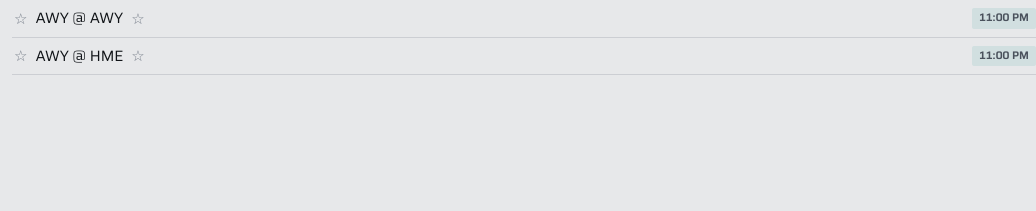
Test: MyTeams › joins both abbreviations when the starred teams play each other
Click the 2nd button "☆". click: [138, 18]
box: [129,9,147,28]
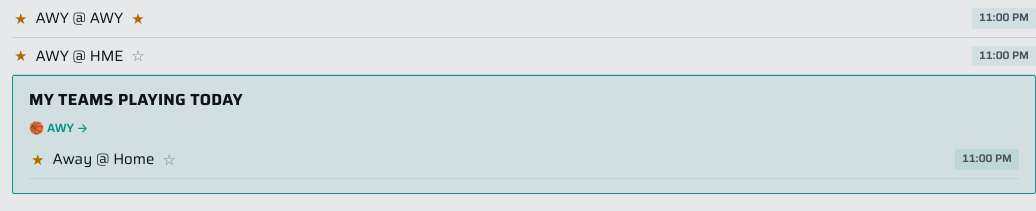
Click the button "☆" next to "HME". click: [138, 56]
box: [129,46,147,65]
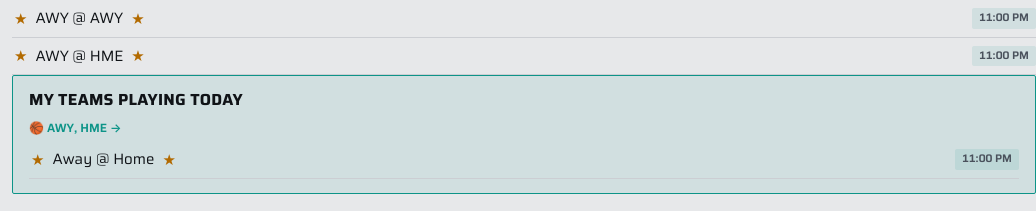
Now the link titled "Open in NBA" shows "AWY, HME", box [29,119,122,137]
